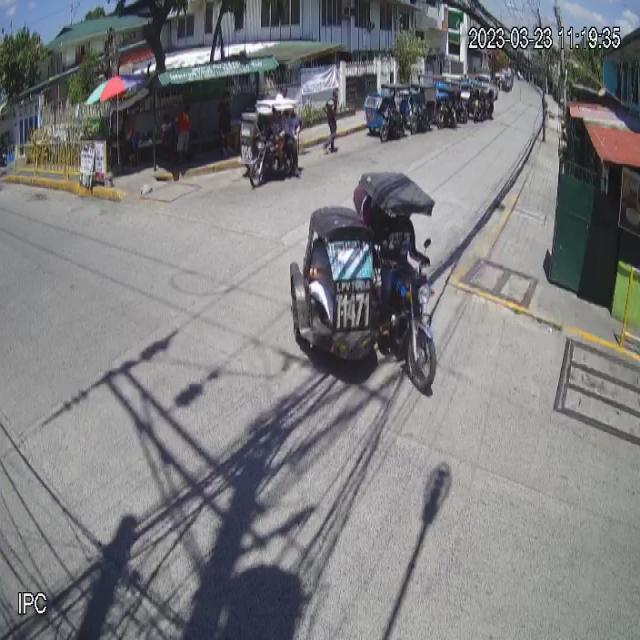Tricycle: (289, 172, 438, 398)
